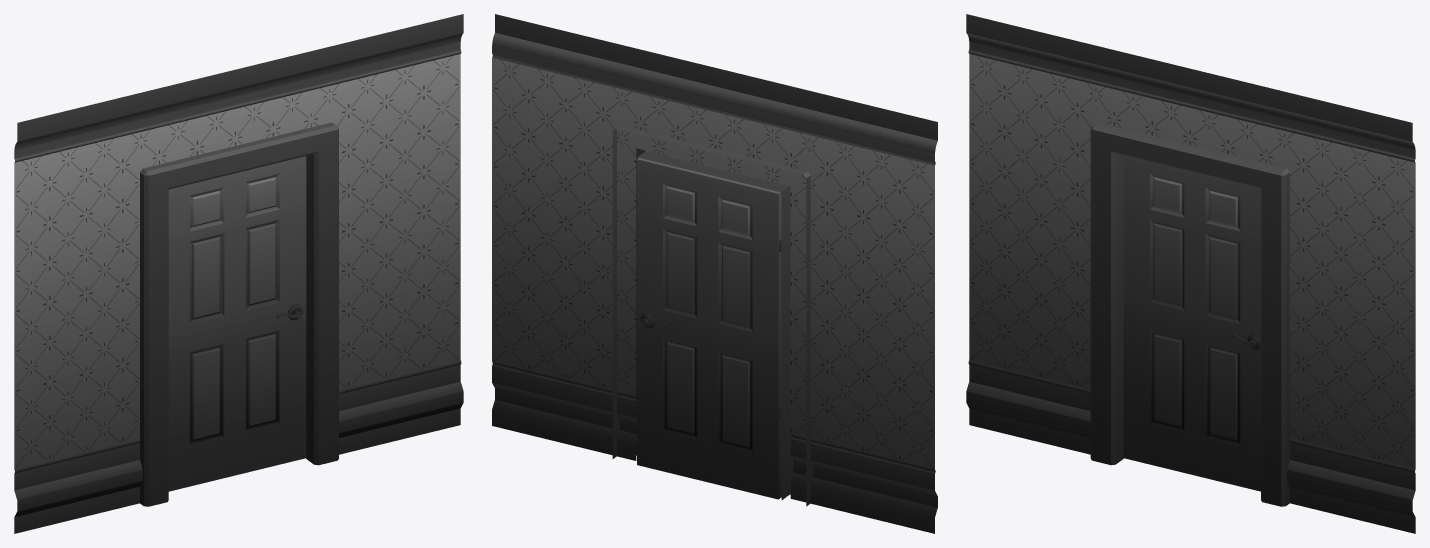
File: Wall_02_Door_02_Dark.fbx
The picture shows the model from 3 angles, left to right: view 1: azimuth 30°, elevation 25°; view 2: azimuth 150°, elevation 25°; view 3: azimuth 330°, elevation 25°; orthographic projection.
Visible parts, largest first — view 1: Wall_02_Door_02_Dark, Door_02; view 2: Wall_02_Door_02_Dark, Door_02; view 3: Wall_02_Door_02_Dark, Door_02.
Boxes of the visible parts, left/top/right/bottom form: Wall_02_Door_02_Dark: left=14, top=14, right=463, bottom=533; Door_02: left=168, top=156, right=306, bottom=491; Wall_02_Door_02_Dark: left=492, top=14, right=937, bottom=533; Door_02: left=637, top=158, right=781, bottom=499; Wall_02_Door_02_Dark: left=966, top=14, right=1415, bottom=533; Door_02: left=1123, top=156, right=1260, bottom=491.
Bounding box in the file's own units: 3 × 2.65 × 0.1764.
